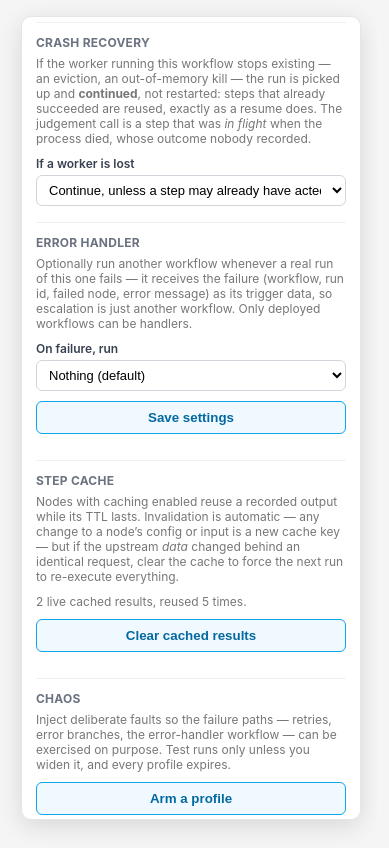
Test: RunSettingsPanel › sends a null heartbeat when the field is empty, and rejects bad values
This screenshot has width=389, height=848.
(page scrolled)
Click the button "Save settings" at (191, 418), box [36,401,346,434]
(page scrolled)
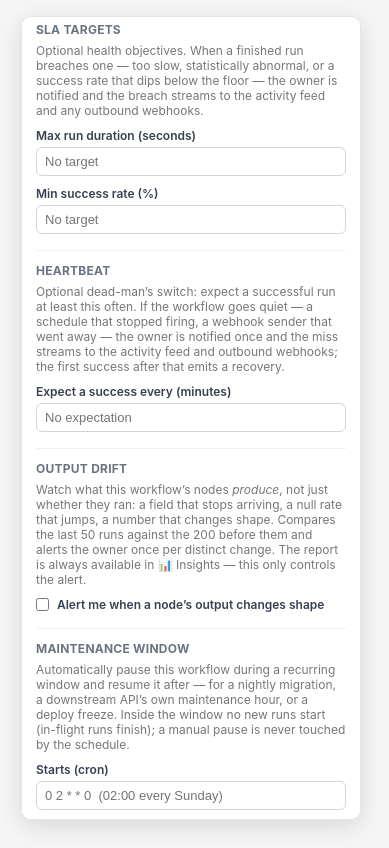
Type "2.5" into the number field labelled "Expect a success every (minutes)" at (191, 418), box [36,403,346,432]
(page scrolled)
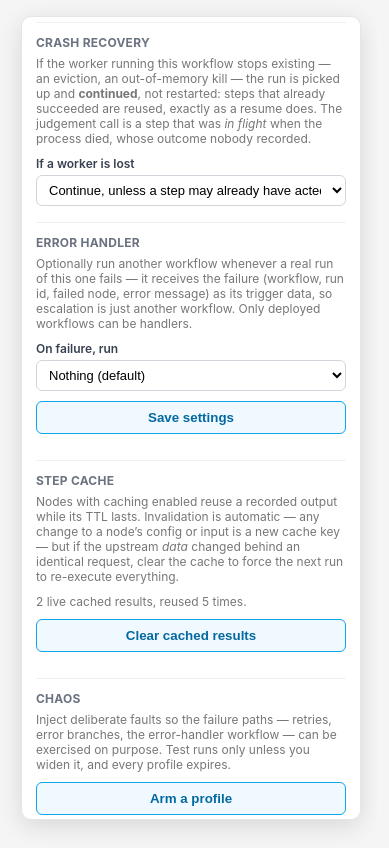
Click the button "Save settings" at (191, 418), box [36,401,346,434]
(page scrolled)
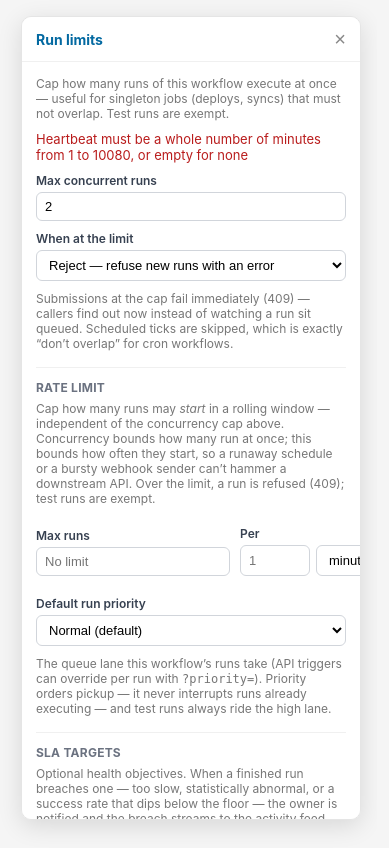
Expected: the text "whole number of minutes" is shown, [36,131,321,163]
